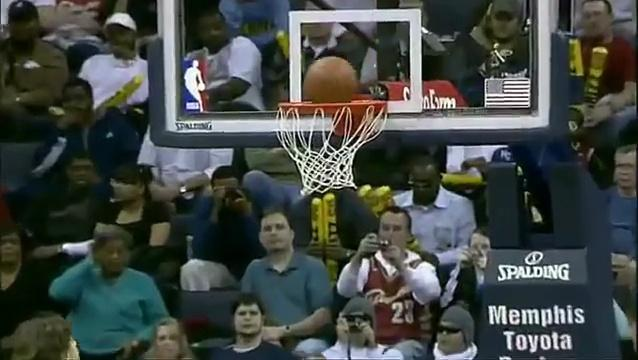Backboard: (156, 0, 572, 143)
Ball: (304, 54, 359, 111)
Made Basket: (271, 65, 387, 196)
